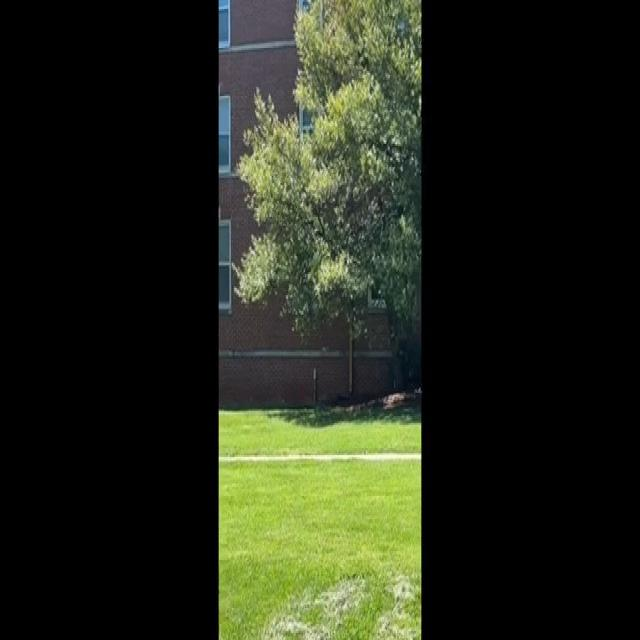drone: (318, 336, 335, 358)
